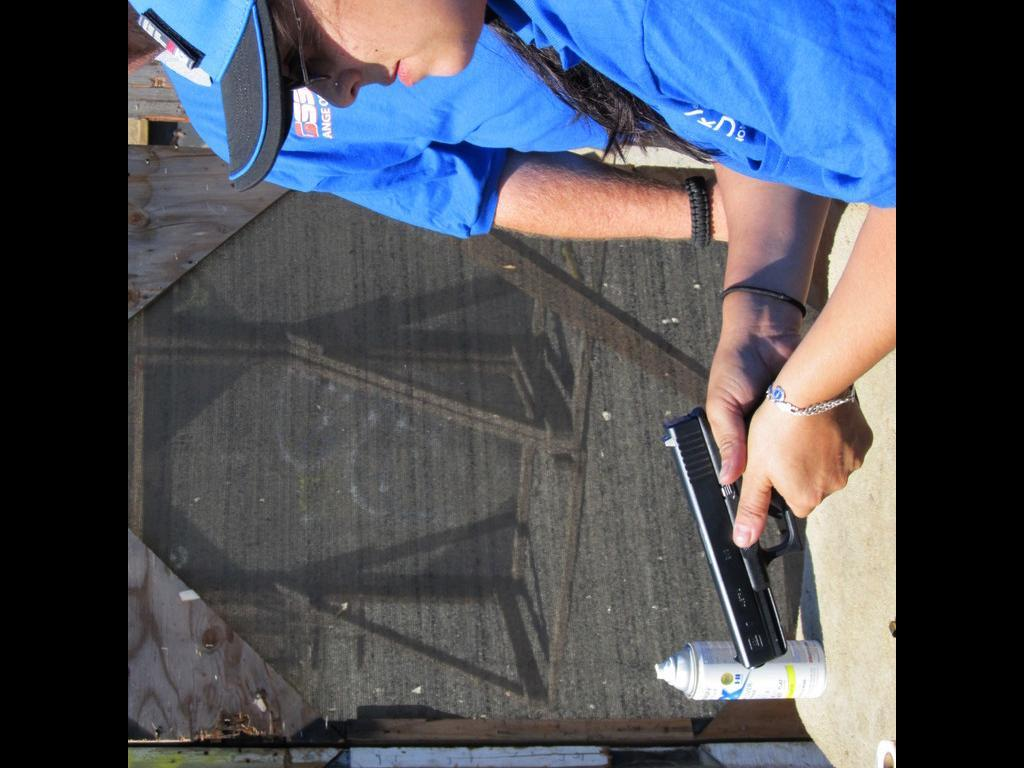gun: (659, 394, 824, 672)
